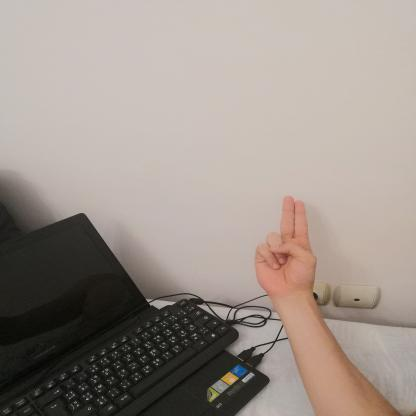TA: (238, 183, 328, 311)
